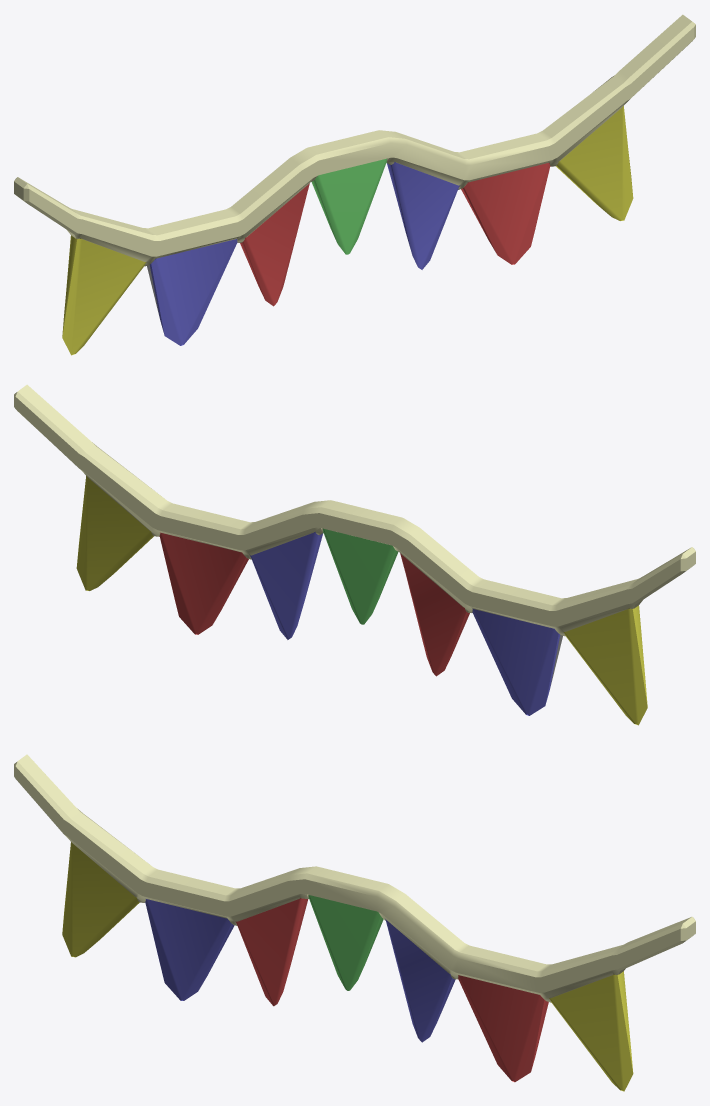
File: wallflag.fbx
3 renders of one model, top to bottom at view 1: azimuth 30°, elevation 25°; view 2: azimuth 150°, elevation 25°; view 3: azimuth 330°, elevation 25°, orthographic.
Visible parts, largest first — view 1: pCube1; view 2: pCube1; view 3: pCube1.
Boxes of the visible parts, x1,y1,x2,y2 form: pCube1: [14, 14, 695, 355]; pCube1: [14, 384, 695, 725]; pCube1: [14, 754, 695, 1091].
Bounding box in the file's own units: 136 × 39.47 × 4.78.
